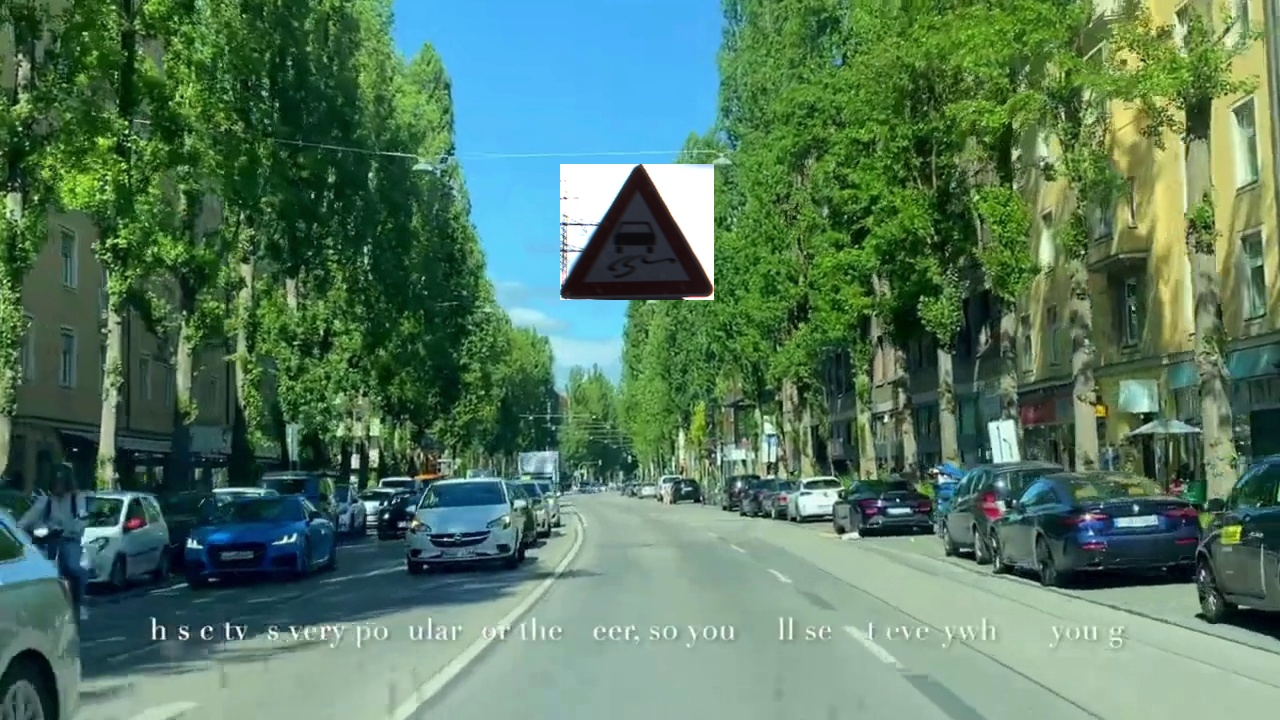Slippery: (560, 164, 714, 300)
